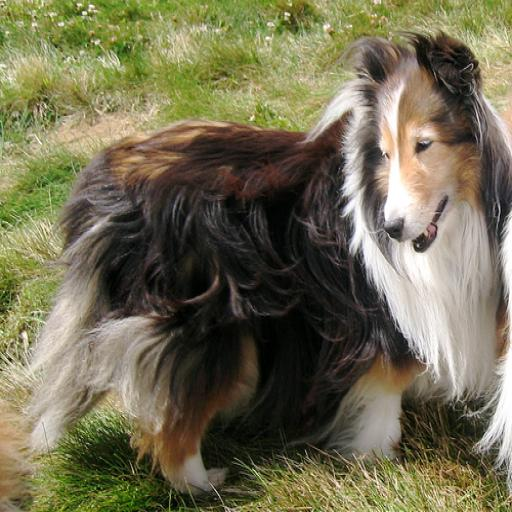dog_face: (349, 38, 490, 267)
